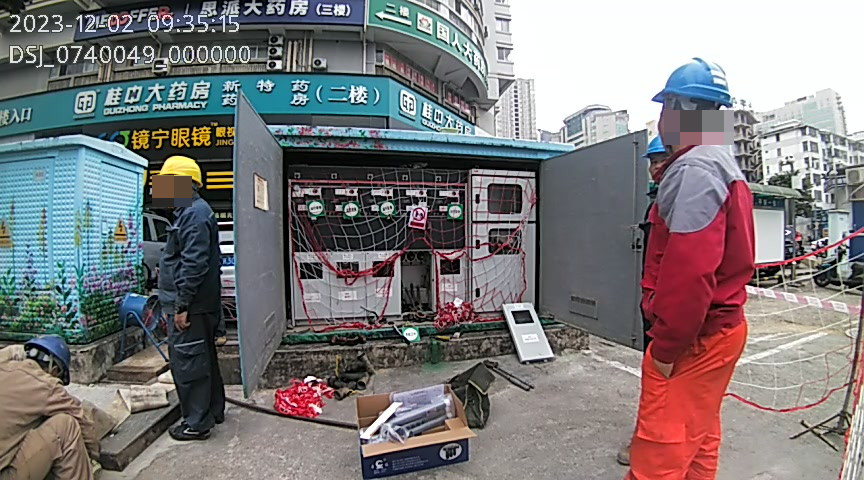downsuit: (164, 289, 225, 426)
halt: (652, 58, 731, 135), (154, 155, 204, 206), (26, 331, 72, 386)
hand: (174, 312, 193, 334)
inear: (170, 174, 193, 203)
person: (616, 57, 757, 479), (146, 155, 229, 442), (1, 330, 119, 479)
upcloth: (637, 136, 758, 334)
upsuit: (156, 191, 223, 293)
ydownsuit: (629, 347, 748, 480)
